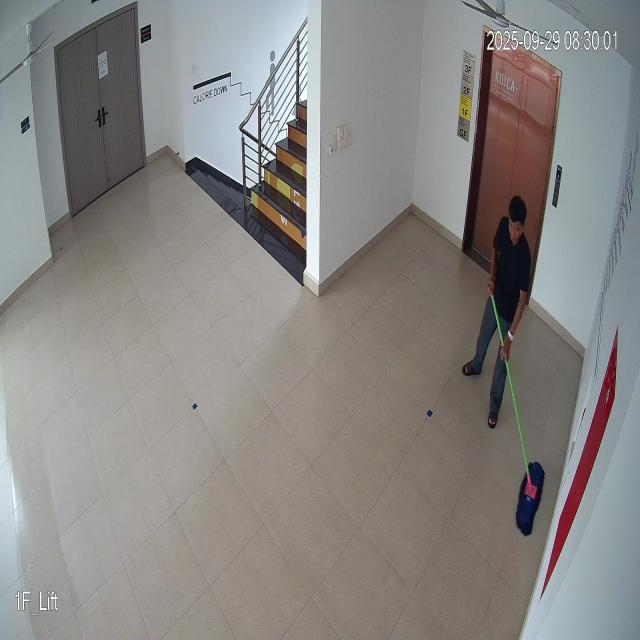face: (504, 194, 528, 244)
